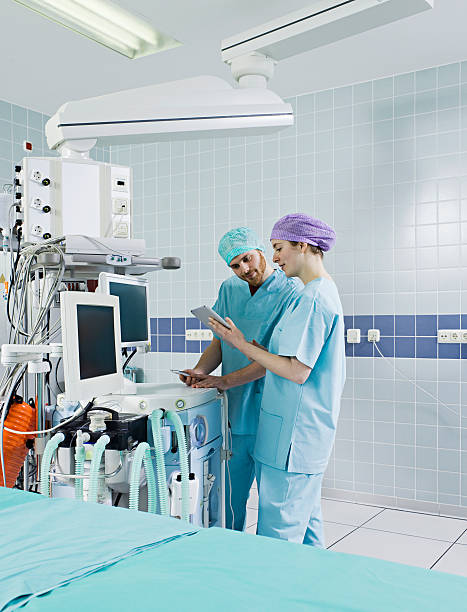breathing_tube: (40, 408, 190, 525)
operating_bed: (1, 486, 466, 612)
staff: (189, 209, 346, 549), (175, 224, 304, 549)
ventilator: (50, 272, 230, 528)
